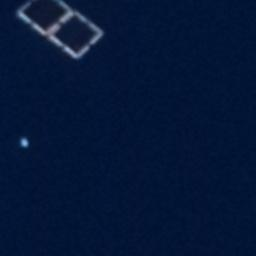square_solid: (44, 8, 109, 61), (11, 1, 81, 39)
